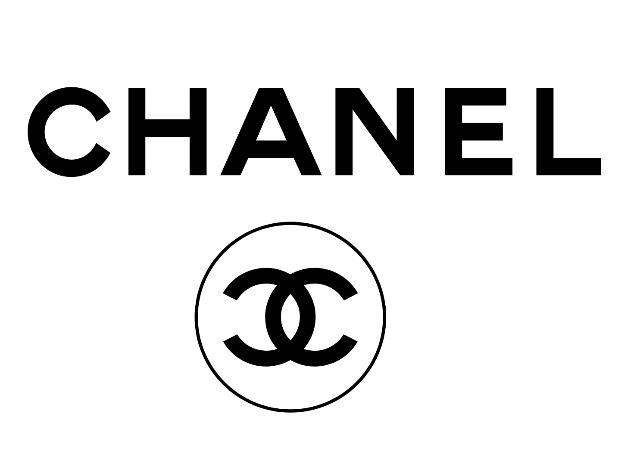Chanel: (11, 75, 612, 196), (164, 212, 412, 418)
